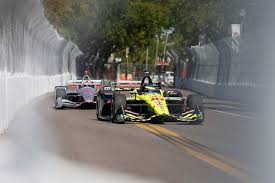FormulaOneCar: (94, 73, 208, 131)
